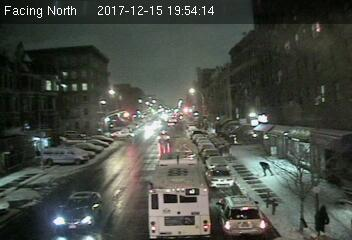bus: (147, 151, 214, 240)
car: (216, 196, 267, 236), (54, 191, 103, 230), (206, 167, 237, 189), (206, 155, 230, 170), (157, 130, 169, 140)
pedestrian: (314, 202, 331, 236), (258, 154, 275, 180)
